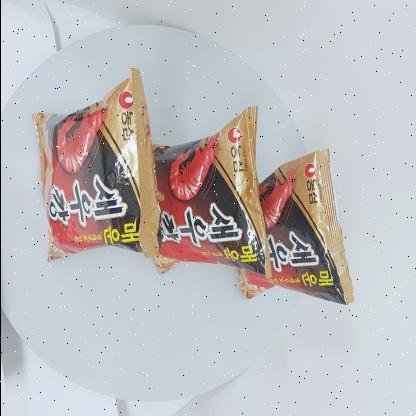Others: (26, 65, 362, 307)
